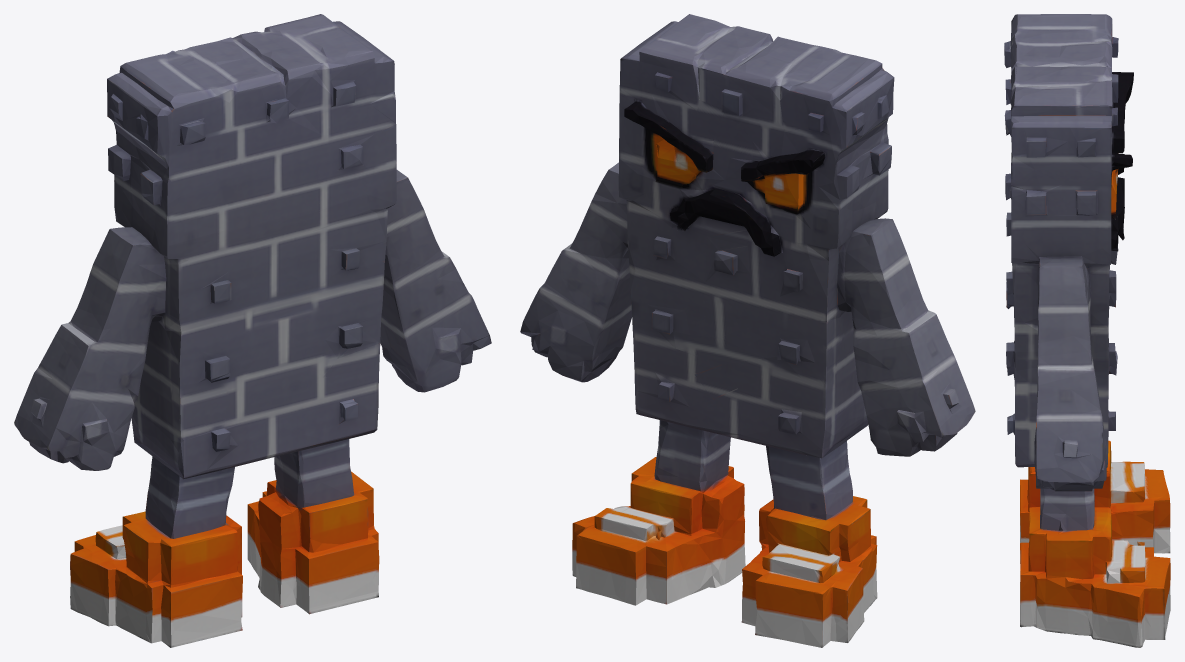
The model's file is MattoncinoCattivo.glb.
The picture shows the model from 3 angles, left to right: view 1: azimuth 30°, elevation 25°; view 2: azimuth 150°, elevation 25°; view 3: azimuth 270°, elevation 25°; orthographic projection. The views are drawn at different scales.
Visible parts, largest first — view 1: geometry_0; view 2: geometry_0; view 3: geometry_0.
Boxes of the visible parts, x1,y1,x2,y2 form: geometry_0: (14,14,491,647); geometry_0: (520,14,975,647); geometry_0: (1004,14,1170,647).
Size of the model in its own units: 0.8479 by 1 by 0.2909.
Materials: 1 (1 with a texture image).
